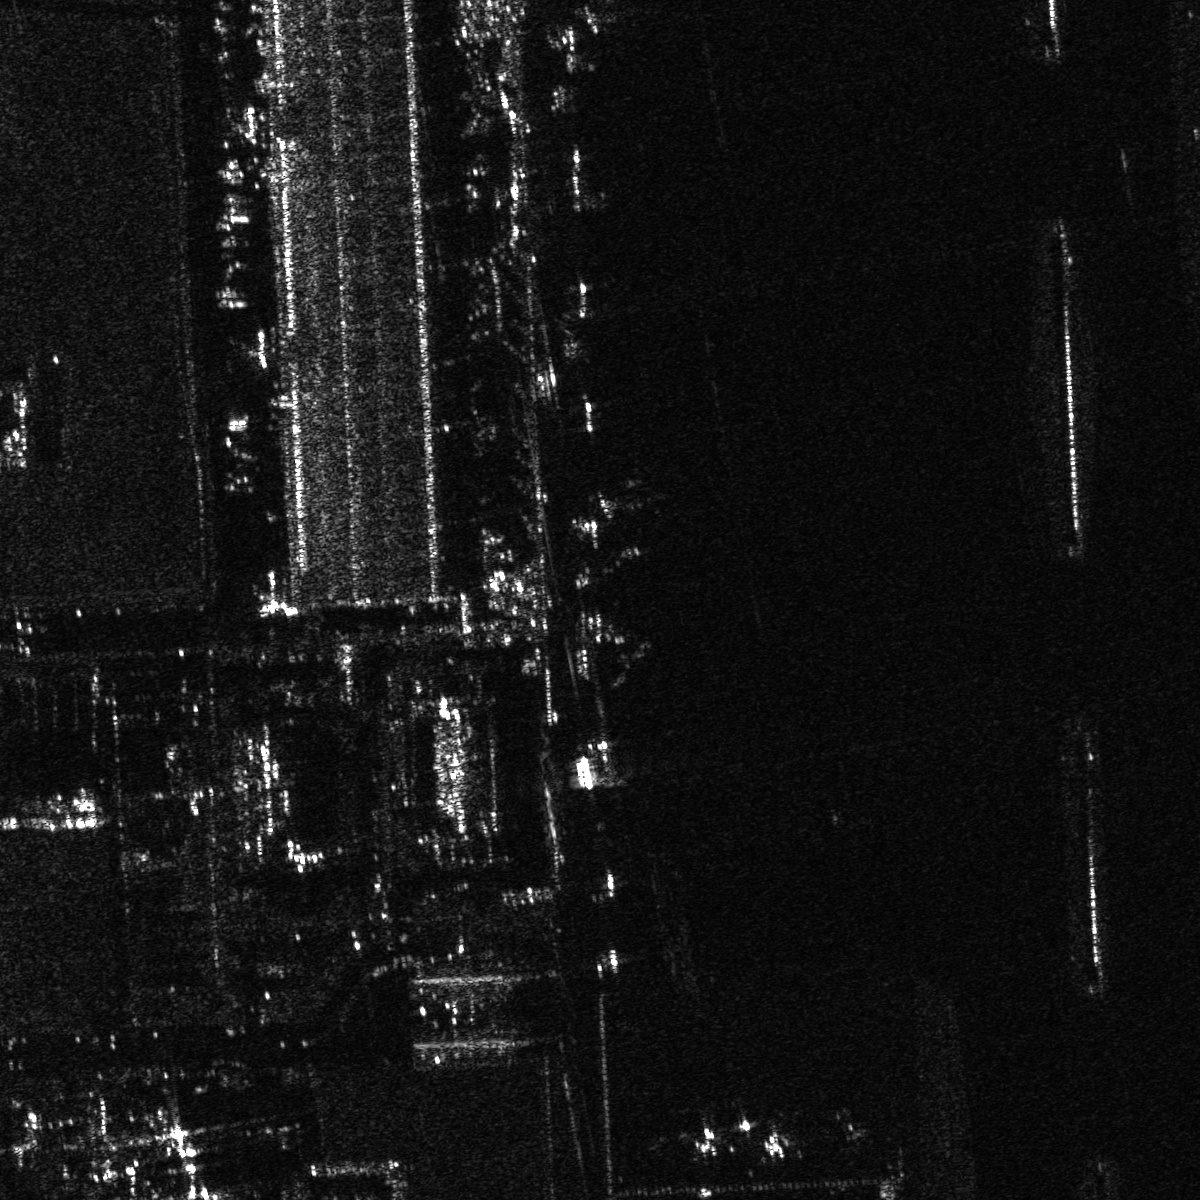ARJ21: (677, 1119, 727, 1165)
other: (602, 473, 684, 519), (746, 1114, 799, 1164)
